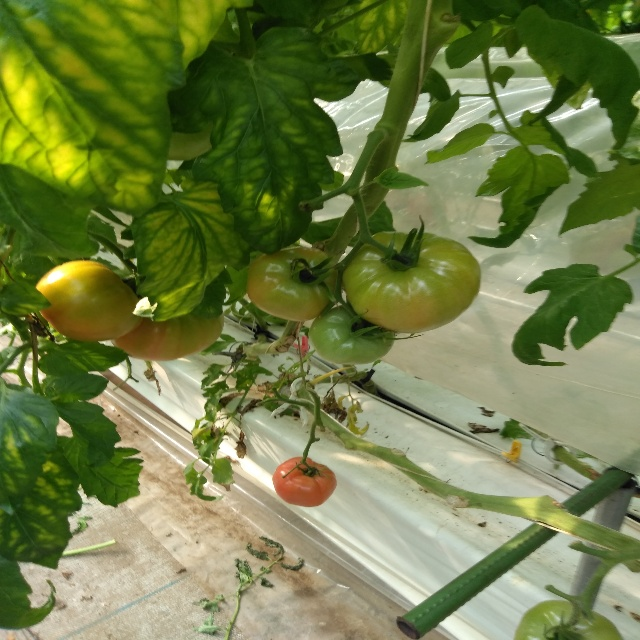b_green: (341, 231, 483, 334), (309, 302, 395, 365), (512, 599, 624, 640)
b_half_ripened: (32, 261, 145, 342), (244, 246, 343, 323), (108, 312, 224, 361), (272, 456, 337, 507)
